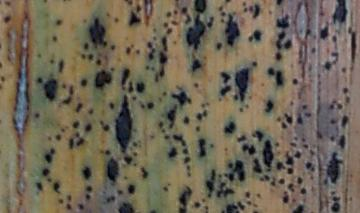tarspot: (116, 94, 132, 152), (186, 15, 206, 49), (326, 153, 343, 184), (225, 14, 239, 45), (236, 69, 248, 101), (90, 18, 104, 45), (333, 1, 347, 24), (171, 91, 192, 106), (95, 69, 112, 87), (107, 158, 119, 182), (263, 140, 273, 168), (179, 187, 192, 206), (234, 160, 245, 182), (45, 80, 56, 101), (276, 15, 290, 29), (129, 10, 141, 26), (351, 29, 356, 63), (251, 158, 262, 173), (119, 202, 134, 213), (194, 1, 206, 14), (191, 58, 202, 72), (121, 69, 130, 84), (253, 3, 261, 19), (199, 140, 207, 156), (320, 26, 329, 40), (222, 72, 232, 83), (221, 86, 232, 96), (136, 81, 145, 93), (255, 129, 263, 142), (206, 180, 214, 193), (283, 39, 292, 50), (223, 188, 234, 197), (226, 204, 237, 213), (338, 135, 345, 149), (159, 52, 167, 64), (162, 36, 168, 52), (265, 100, 273, 112), (276, 70, 282, 86), (83, 168, 91, 180), (141, 167, 148, 180), (62, 95, 71, 105), (225, 123, 234, 133), (274, 39, 283, 49), (253, 30, 261, 41), (169, 147, 177, 158), (293, 205, 304, 213), (168, 109, 175, 121), (54, 182, 61, 194), (123, 155, 132, 164), (44, 153, 52, 163), (249, 144, 256, 155), (80, 78, 88, 87), (184, 15, 192, 24), (211, 169, 217, 181), (294, 150, 302, 159), (285, 156, 293, 165), (35, 181, 43, 190), (4, 14, 11, 24), (207, 17, 214, 27), (173, 134, 183, 141), (275, 51, 282, 61), (288, 182, 295, 192), (342, 115, 348, 126), (283, 194, 289, 205), (55, 18, 63, 26), (75, 104, 83, 112), (72, 120, 80, 128), (267, 67, 275, 75), (277, 161, 285, 169), (331, 203, 339, 211), (127, 185, 135, 193), (85, 123, 92, 132), (196, 111, 203, 120), (237, 134, 246, 141), (277, 32, 286, 39), (297, 116, 304, 125), (238, 201, 245, 210), (59, 60, 64, 72), (128, 82, 134, 92), (69, 137, 74, 149), (104, 148, 111, 156), (46, 134, 53, 142), (278, 178, 286, 185), (136, 4, 142, 13), (146, 102, 155, 108), (217, 42, 223, 51), (248, 4, 254, 13), (325, 62, 331, 71), (217, 189, 223, 198), (178, 207, 187, 213), (297, 176, 303, 185), (160, 67, 165, 77), (55, 134, 62, 141), (183, 117, 190, 124), (162, 186, 169, 193), (42, 169, 49, 176), (222, 145, 229, 152), (4, 1, 12, 7), (76, 139, 84, 145), (170, 20, 178, 26), (202, 109, 208, 117), (281, 121, 287, 129), (331, 51, 339, 57), (304, 112, 312, 118), (276, 115, 282, 123), (228, 161, 234, 169), (289, 141, 297, 147), (302, 143, 310, 149), (304, 162, 312, 168), (267, 8, 273, 16), (317, 132, 323, 140), (126, 46, 131, 55), (158, 120, 163, 129), (243, 143, 248, 152), (229, 173, 234, 182), (96, 59, 102, 66), (103, 124, 109, 131), (166, 27, 172, 34), (166, 11, 172, 18), (181, 7, 187, 14), (248, 35, 254, 42), (251, 61, 258, 67), (184, 156, 190, 163), (195, 125, 201, 132), (292, 78, 298, 85), (301, 104, 308, 110), (333, 196, 340, 202), (301, 188, 307, 195), (132, 150, 138, 157), (155, 72, 159, 82), (330, 134, 335, 142), (49, 59, 55, 65), (69, 86, 73, 95), (81, 53, 87, 59), (163, 22, 169, 28), (218, 5, 224, 11), (164, 134, 170, 140), (183, 148, 189, 154), (337, 103, 343, 109), (329, 104, 335, 110), (264, 174, 270, 180), (194, 202, 200, 208), (287, 168, 293, 174), (106, 197, 112, 203), (79, 205, 85, 211), (67, 203, 73, 209), (36, 53, 42, 59), (309, 150, 315, 156), (244, 103, 250, 109), (217, 96, 223, 102), (1, 75, 6, 82), (53, 35, 58, 42), (84, 42, 89, 49), (88, 53, 93, 60), (110, 102, 115, 109), (75, 131, 80, 138), (132, 94, 137, 101), (148, 42, 153, 49), (50, 147, 55, 154), (194, 82, 199, 89), (181, 141, 188, 146), (287, 117, 292, 124), (276, 1, 283, 6), (306, 28, 311, 35), (345, 96, 350, 103), (67, 194, 72, 201), (246, 191, 250, 199), (38, 77, 43, 83), (110, 45, 116, 50), (89, 108, 94, 114), (140, 103, 145, 109), (149, 54, 154, 60), (173, 10, 178, 16), (162, 90, 167, 96), (121, 85, 126, 91), (152, 27, 157, 33), (61, 127, 66, 133), (169, 123, 174, 129), (239, 107, 244, 113), (311, 47, 316, 53), (332, 36, 337, 42), (342, 67, 347, 73), (271, 181, 277, 186), (220, 182, 226, 187), (132, 141, 137, 147), (117, 190, 123, 195), (87, 186, 92, 192), (86, 194, 91, 200), (59, 198, 64, 204), (106, 11, 111, 17), (126, 1, 133, 5), (136, 48, 140, 55), (348, 27, 352, 34), (205, 205, 209, 212), (187, 171, 191, 178), (150, 209, 157, 213), (35, 113, 40, 118), (114, 17, 119, 22), (100, 120, 105, 125), (145, 65, 150, 70), (220, 18, 225, 23), (152, 36, 157, 41), (343, 88, 348, 93), (331, 119, 336, 124), (201, 103, 206, 108), (224, 173, 229, 178), (207, 193, 212, 198), (275, 142, 280, 147), (330, 191, 335, 196), (47, 177, 52, 182), (172, 40, 177, 45), (82, 18, 87, 23), (292, 198, 297, 203), (63, 83, 67, 89), (152, 47, 156, 53), (234, 94, 238, 100), (290, 100, 294, 106), (218, 173, 222, 179), (210, 143, 214, 149), (247, 200, 251, 206), (187, 165, 191, 171), (112, 195, 116, 201), (252, 210, 259, 213), (221, 12, 226, 16), (244, 7, 248, 12), (285, 113, 289, 118), (302, 138, 307, 142), (257, 193, 261, 198), (151, 135, 155, 140), (124, 175, 128, 180), (161, 128, 165, 133), (1, 60, 3, 69), (104, 41, 107, 47), (1, 82, 3, 90), (260, 178, 264, 182), (203, 199, 207, 203), (94, 45, 98, 49), (243, 1, 246, 6), (134, 162, 137, 167), (43, 1, 48, 4), (225, 1, 232, 3), (222, 210, 226, 213)
